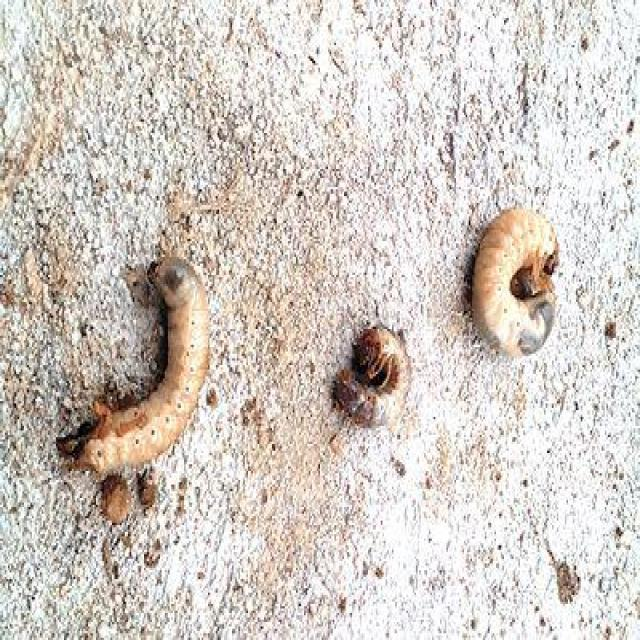Grub-Adult-: (72, 248, 210, 458), (457, 162, 570, 364), (309, 279, 425, 456)
